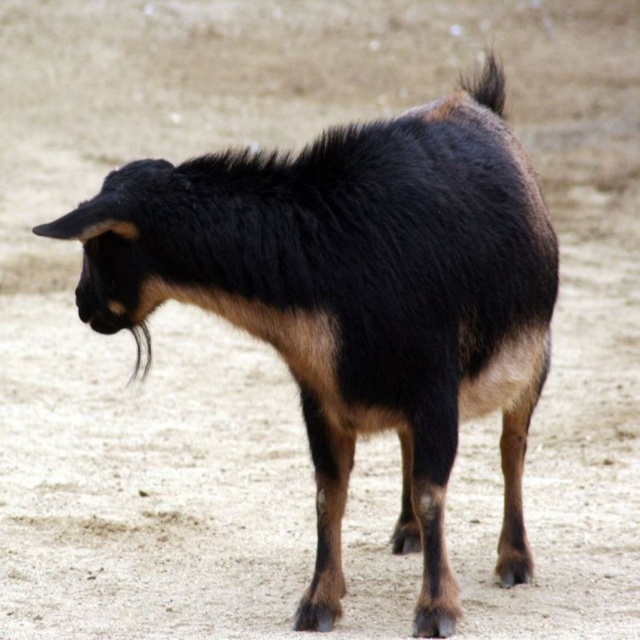Goat: (26, 42, 563, 639)
